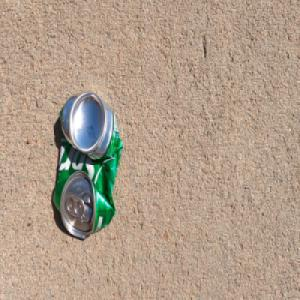SodaCan: (51, 89, 123, 241)
